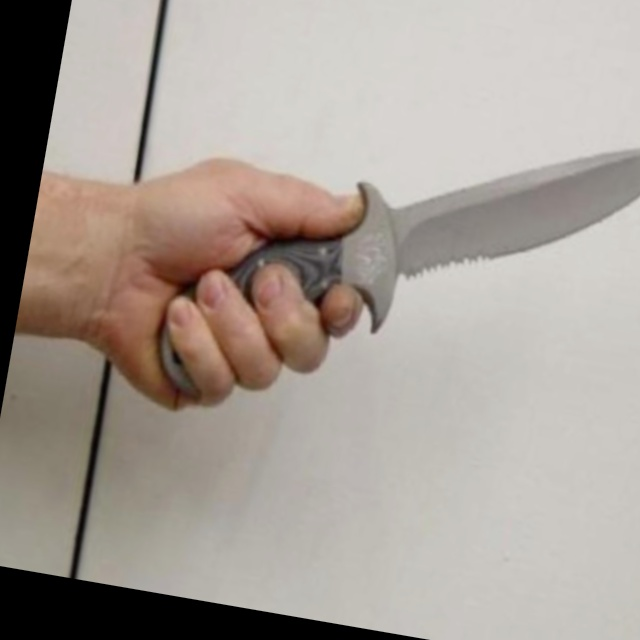Sharp-Object: (151, 64, 640, 470)
